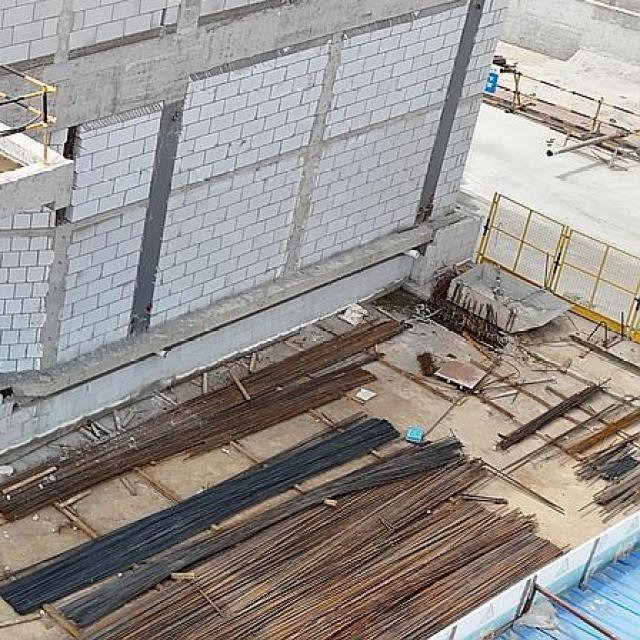edge_guardrail: (0, 61, 59, 163)
